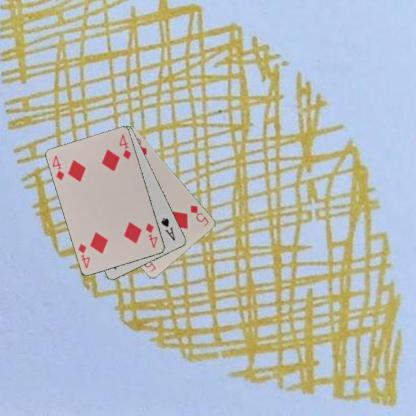4d: (50, 153, 66, 182), (143, 221, 159, 249)
5d: (188, 202, 210, 228)
As: (158, 215, 176, 242)
